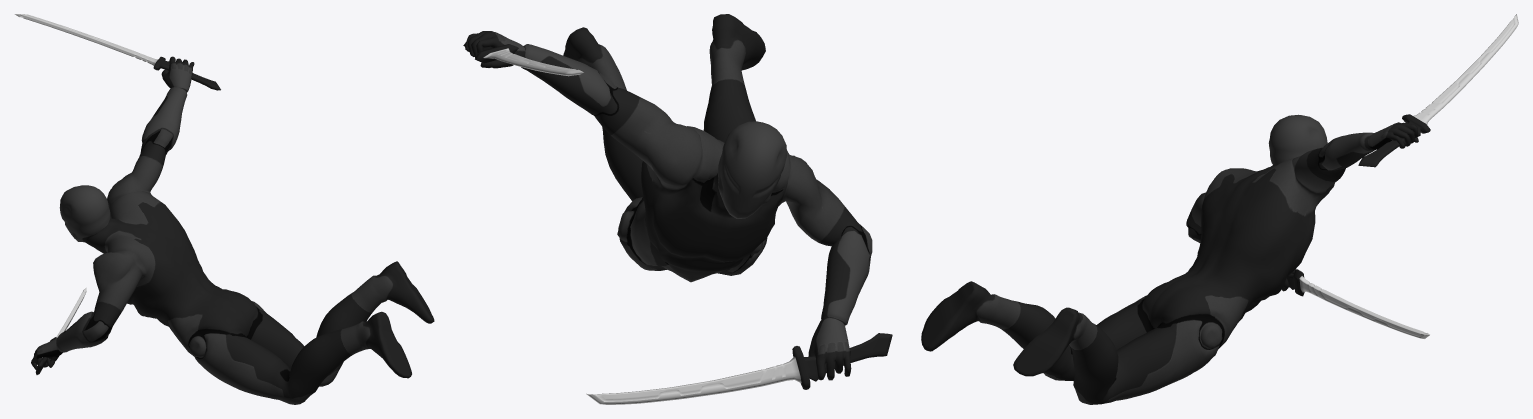
3 renders of one model, left to right at view 1: azimuth 30°, elevation 25°; view 2: azimuth 150°, elevation 25°; view 3: azimuth 270°, elevation 25°, orthographic. The views are drawn at different scales.
Parts seen in each view (by area): view 1: Cyborg_Ninja_Killer, Sword_l001, Sword_l; view 2: Cyborg_Ninja_Killer, Sword_l, Sword_l001; view 3: Cyborg_Ninja_Killer, Sword_l001, Sword_l.
Part boxes in pixels (x1,y1,x2,y2): Cyborg_Ninja_Killer: (31,56,434,404); Sword_l001: (14,14,220,90); Sword_l: (35,287,86,374); Cyborg_Ninja_Killer: (465,14,872,380); Sword_l: (586,333,892,404); Sword_l001: (463,42,583,76); Cyborg_Ninja_Killer: (921,114,1418,404); Sword_l001: (1358,14,1518,167); Sword_l: (1286,269,1429,338).
Bounding box in the file's own units: 143 × 121 × 206.
Materials: 2 (2 with a texture image).
